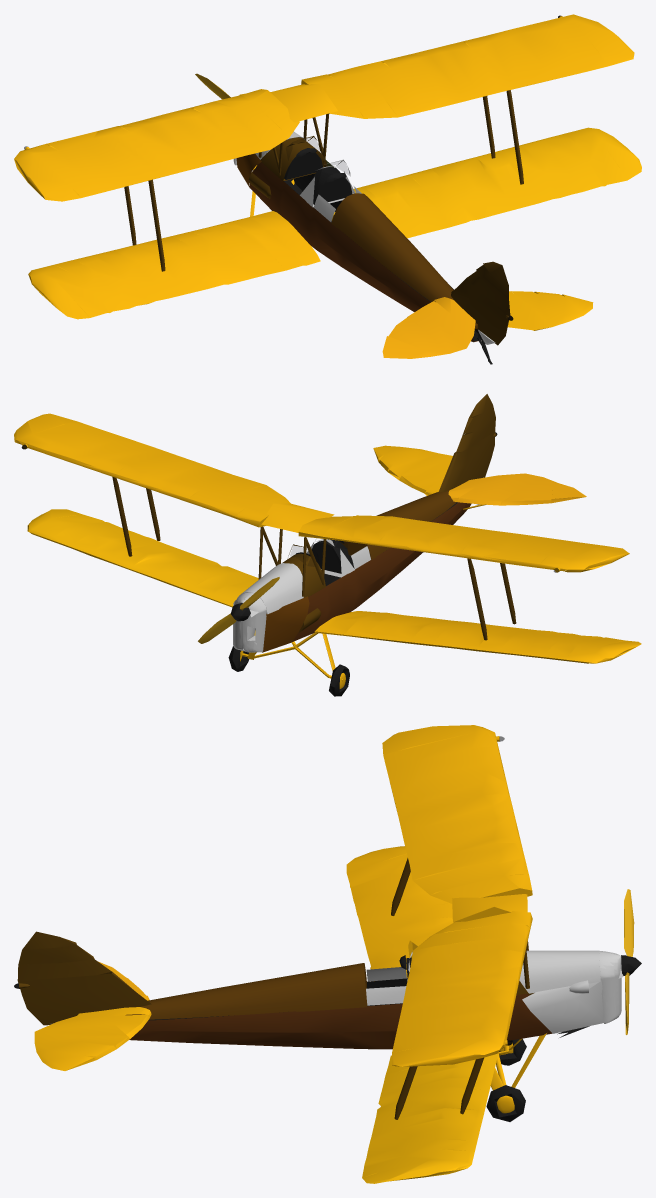
File: plane_lower.obj
The picture shows the model from 3 angles, top to bottom: view 1: azimuth 30°, elevation 25°; view 2: azimuth 150°, elevation 25°; view 3: azimuth 270°, elevation 25°; orthographic projection. The views are drawn at different scales.
Parts seen in each view (by area): view 1: _1_2, Wingupper_2, _2_2, WingLower_2, fuselage_2, combing_2, ltail_2, Fin_2, fueltank_2, anotherbit_2, __11_2; view 2: _1_2, Wingupper_2, _2_2, WingLower_2, fuselage_2, ltail_2, Fin_2, cowltop_2, combing_2, cowl_2, nose, fueltank_2 (+5 smaller); view 3: _1_2, Wingupper_2, WingLower_2, fuselage_2, _2_2, combing_2, Fin_2, cowltop_2, fueltank_2, nose, tyre_2, door_1_2.
Part boxes in pixels (x1,y1,x2,y2): _1_2: [301, 14, 634, 330]; Wingupper_2: [14, 89, 299, 201]; _2_2: [28, 166, 322, 319]; WingLower_2: [332, 127, 641, 238]; fuselage_2: [249, 162, 478, 342]; combing_2: [331, 193, 477, 328]; ltail_2: [382, 297, 475, 358]; Fin_2: [451, 261, 510, 345]; fueltank_2: [270, 84, 337, 122]; anotherbit_2: [260, 137, 327, 180]; __11_2: [284, 138, 322, 179]; _1_2: [14, 413, 452, 573]; Wingupper_2: [298, 515, 629, 572]; _2_2: [314, 541, 641, 663]; WingLower_2: [27, 509, 258, 607]; fuselage_2: [292, 502, 471, 641]; ltail_2: [448, 473, 586, 505]; Fin_2: [438, 394, 495, 492]; cowltop_2: [236, 563, 303, 614]; combing_2: [339, 490, 456, 560]; cowl_2: [262, 596, 309, 652]; nose: [233, 592, 266, 652]; fueltank_2: [261, 503, 334, 532]; _1_2: [34, 911, 603, 1070]; Wingupper_2: [382, 725, 532, 903]; WingLower_2: [362, 1053, 498, 1183]; fuselage_2: [129, 978, 552, 1049]; _2_2: [346, 846, 453, 977]; combing_2: [125, 963, 367, 1019]; Fin_2: [17, 931, 151, 1025]; cowltop_2: [519, 950, 600, 993]; fueltank_2: [452, 894, 527, 922]; nose: [598, 950, 621, 1023]; tyre_2: [486, 1085, 525, 1121]; door_1_2: [366, 986, 406, 1005].
Size of the model in its own units: 11.6 by 3.43 by 9.29.
